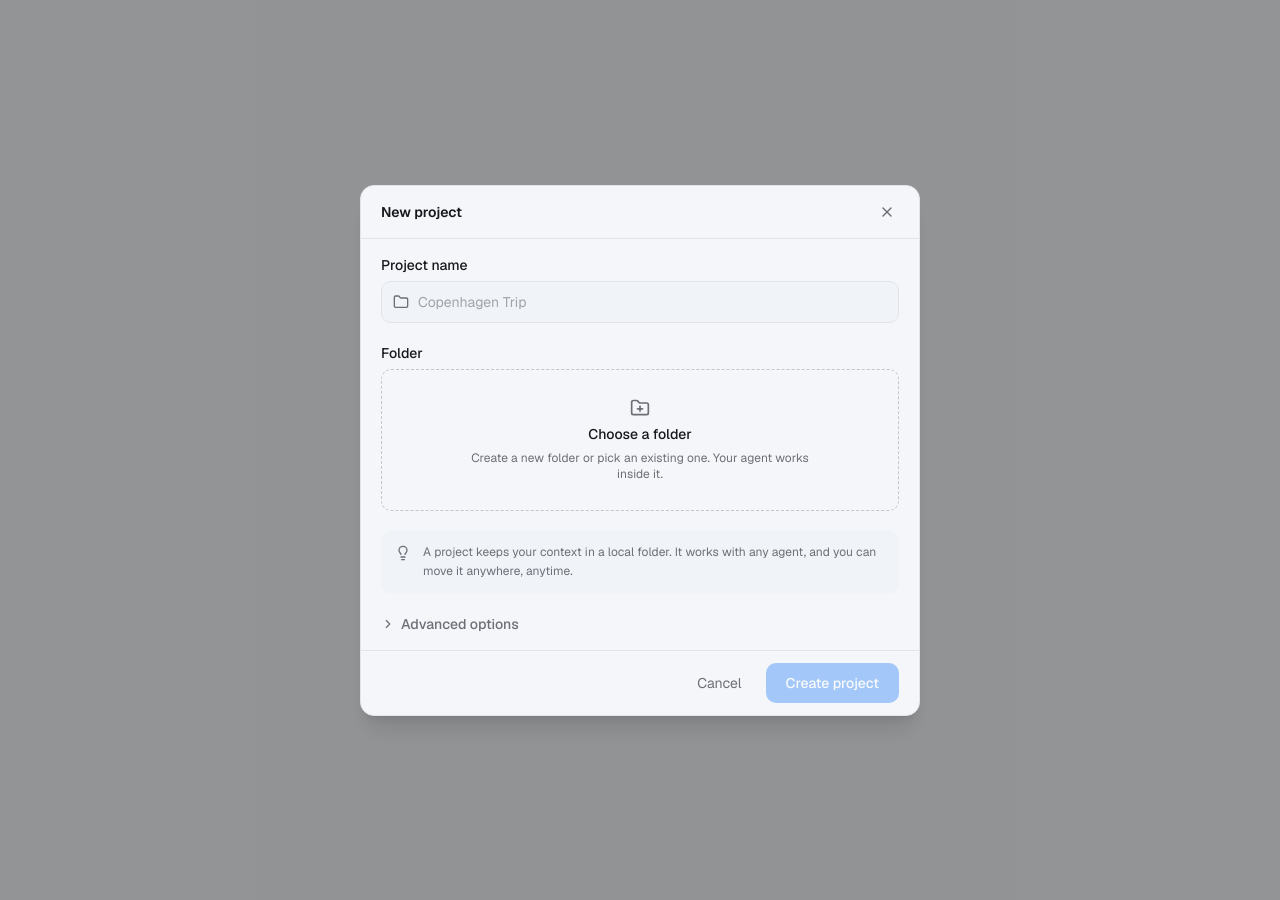
Test case: CreateProject — name and folder are separate fields › prefills the new-folder name from the project name
The image size is (1280, 900).
Type "Copenhagen" into the field with placeholder "Copenhagen Trip". click: coordinates (640, 302)
box: x1=381 y1=280 x2=899 y2=322
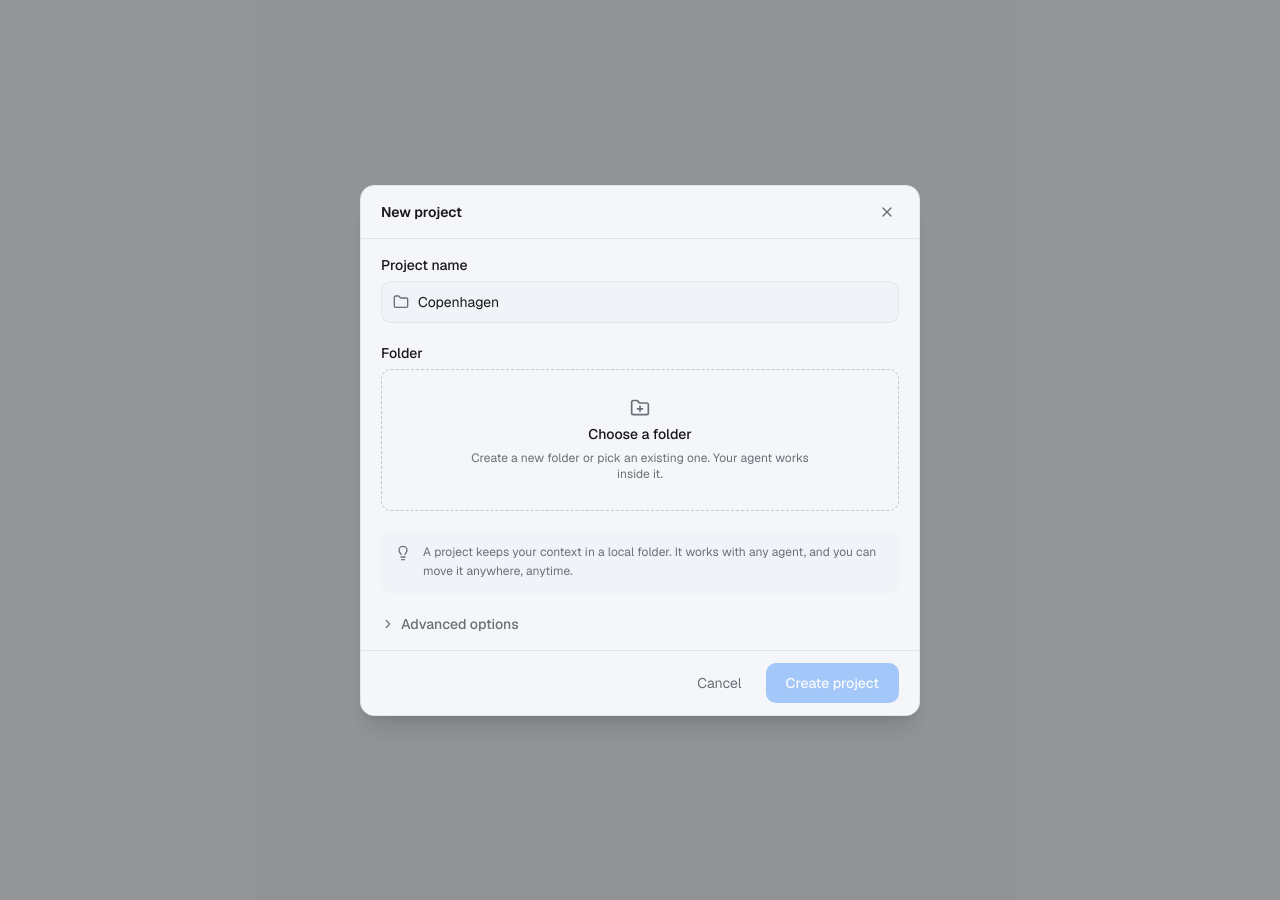
Click the text "Choose a folder". click: coordinates (640, 434)
box: x1=588 y1=424 x2=692 y2=444
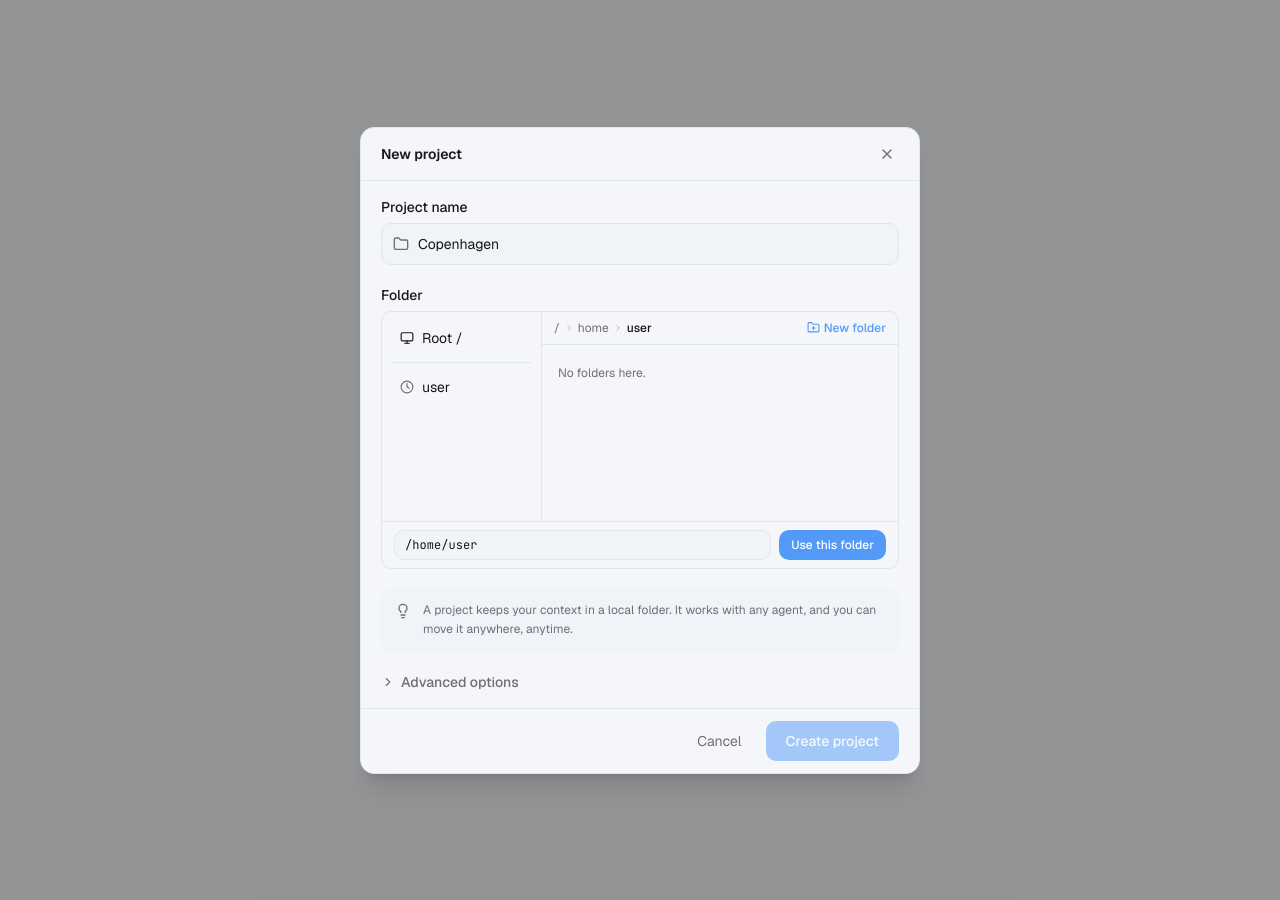
Click the button "New folder". click: coordinates (846, 328)
box: x1=807 y1=320 x2=886 y2=336
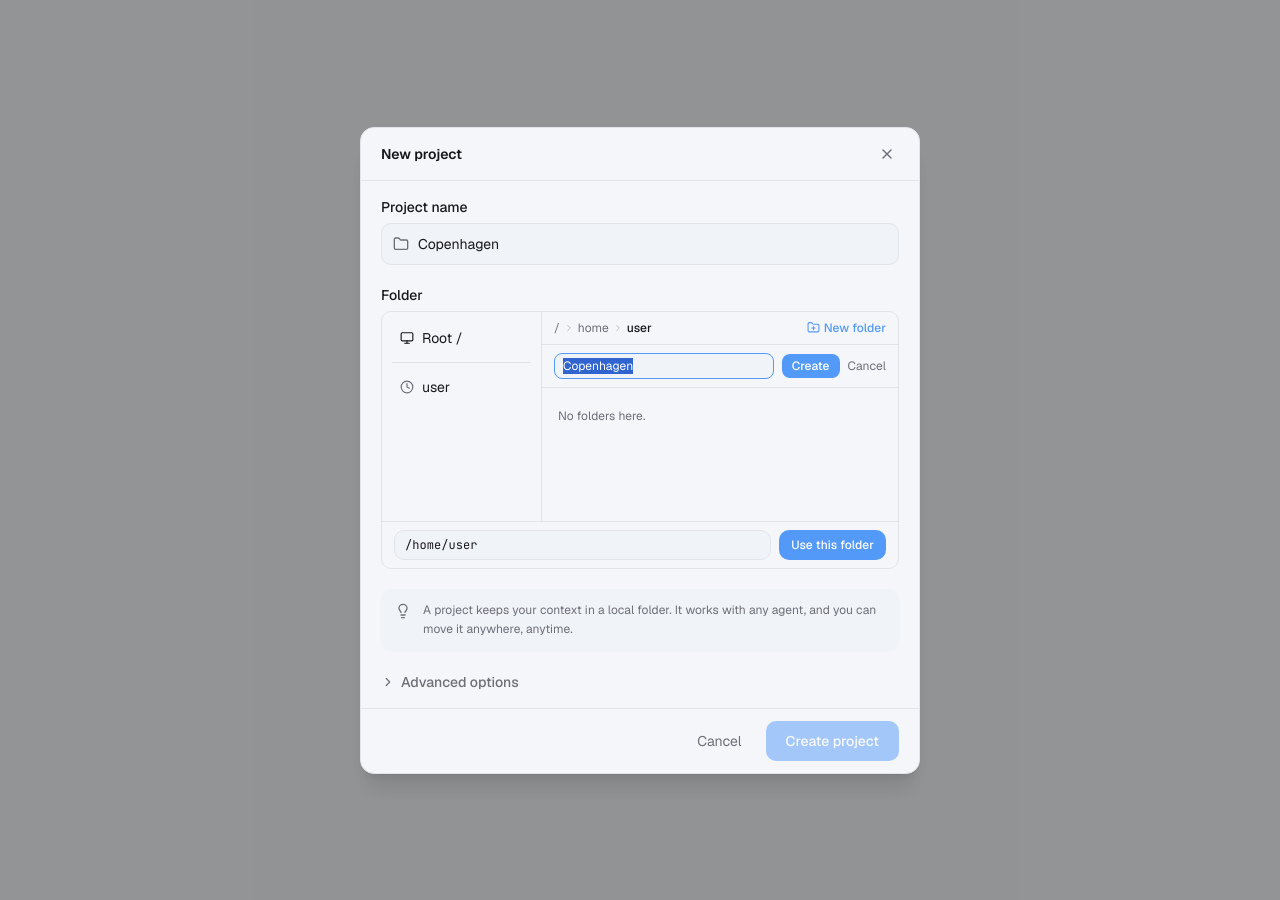
Expected: the 2nd field with placeholder "Folder name" holds "Copenhagen", x1=554 y1=352 x2=774 y2=378
